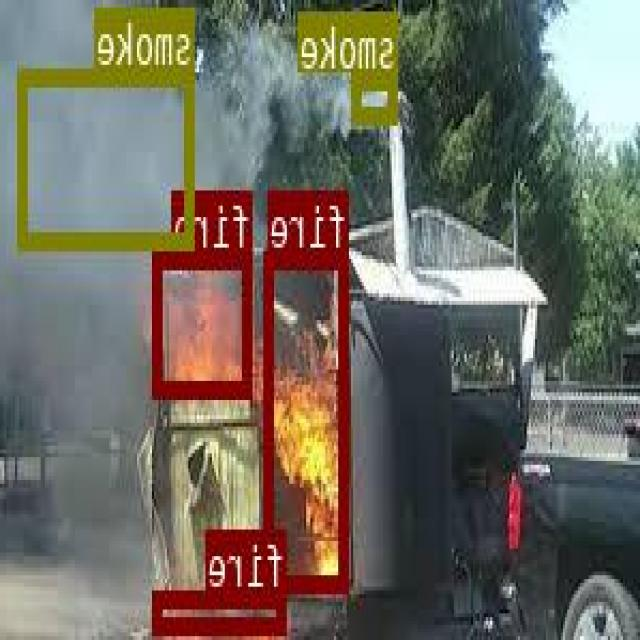fire: (266, 249, 349, 588), (156, 248, 254, 393), (154, 589, 288, 630)
smoke: (21, 65, 197, 245), (353, 70, 399, 120)
